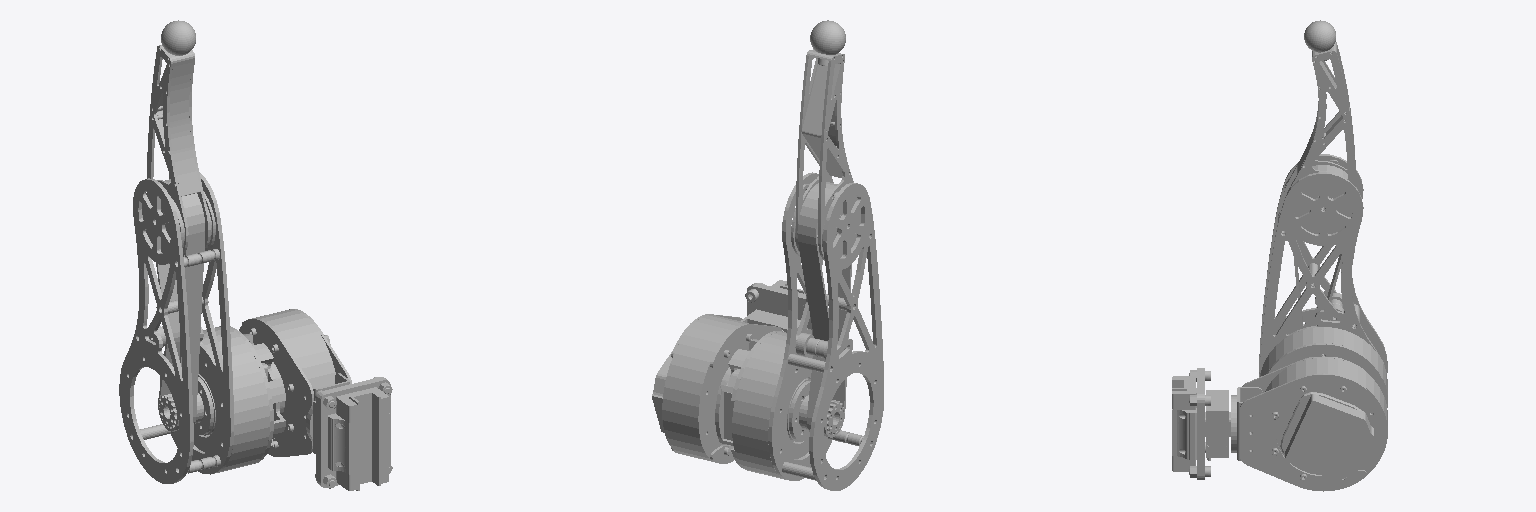
robot.urdf — URDF_LEG_001_000_000:
<?xml version="1.0" encoding="utf-8"?>
<!-- This URDF was automatically created by SolidWorks to URDF Exporter! Originally created by [author] ([email redacted]) 
     Commit Version: 1.6.0-4-g7f85cfe  Build Version: 1.6.7995.38578
     For more information, please see http://wiki.ros.org/sw_urdf_exporter -->
<robot
  name="URDF_LEG_001_000_000">
  
  <link name="base_link">
  <inertial>
    <origin xyz="0.0 0.0 0.0" rpy="0 0.0 0"/>
    <mass value="0.0"/>
    <inertia ixx="0.0" ixy="0.0" ixz="0.0" iyy="0.0" iyz="0.0" izz="0.0"/>
  </inertial>
  </link>

  <link name="Link_rail_y">
  <inertial>
    <origin xyz="0.0 0.0 0.0" rpy="0 0.0 0"/>
    <mass value="0.0"/>
    <inertia ixx="0.0" ixy="0.0" ixz="0.0" iyy="0.0" iyz="0.0" izz="0.0"/>
  </inertial>
  </link>

  <link name="Link_foot">
  <inertial>
    <origin xyz="0.0 0.0 0.0" rpy="0 0.0 0"/>
    <mass value="0.0"/>
    <inertia ixx="0.0" ixy="0.0" ixz="0.0" iyy="0.0" iyz="0.0" izz="0.0"/>
  </inertial>
  </link>

  <link
    name="link_rail_x">
    <inertial>
      <origin
        xyz="-8.6308E-05 0.00018678 -0.0003901"
        rpy="0 0 0" />
      <mass
        value="0.37766" />
      <inertia
        ixx="0.00011183"
        ixy="-2.8019E-07"
        ixz="-7.2687E-08"
        iyy="6.5676E-05"
        iyz="-6.3886E-08"
        izz="0.00016094" />
    </inertial>
    <visual>
      <origin
        xyz="0 0 0"
        rpy="0 0 0" />
      <geometry>
        <mesh
          filename="../meshes/base_link.obj" />
      </geometry>
      <material
        name="">
        <color
          rgba="0.75294 0.75294 0.75294 1" />
      </material>
    </visual>
    <!-- <collision>
      <origin
        xyz="0 0 0"
        rpy="0 0 0" />
      <geometry>
        <mesh
          filename="../meshes/base_link.obj" />
      </geometry>
    </collision> -->
  </link>

  <link
    name="Link_Hip_Roll">
    <inertial>
      <origin
        xyz="0.0031858 -0.00028131 -0.066103"
        rpy="0 0 0" />
      <mass
        value="0.57342" />
      <inertia
        ixx="0.00062163"
        ixy="2.9372E-06"
        ixz="7.0911E-06"
        iyy="0.00036727"
        iyz="-6.1191E-07"
        izz="0.0003807" />
    </inertial>
    <visual>
      <origin
        xyz="0 0 0"
        rpy="0 0 0" />
      <geometry>
        <mesh
          filename="../meshes/Link_Hip_Roll.obj" />
      </geometry>
      <material
        name="">
        <color
          rgba="0.75294 0.75294 0.75294 1" />
      </material>
    </visual>
    <!-- <collision>
      <origin
        xyz="0 0 0"
        rpy="0 0 0" />
      <geometry>
        <mesh
          filename="../meshes/Link_Hip_Roll.obj" />
      </geometry>
    </collision> -->
  </link>

  <joint
    name="Joint_Hip_Roll"
    type="fixed">
    <origin
      xyz="0 0.026 0"
      rpy="1.5708 0 0" />
    <parent
      link="link_rail_x" />
    <child
      link="Link_Hip_Roll" />
    <axis
      xyz="0 0 0" />
  </joint>

  <link
    name="Link_Hip_Pitch">
    <inertial>
      <origin
        xyz="-0.015486 -0.00028849 -0.044683"
        rpy="0 0 0" />
      <mass
        value="0.75736" />
      <inertia
        ixx="0.00046734"
        ixy="-4.1662E-06"
        ixz="5.7732E-11"
        iyy="0.00093176"
        iyz="-1.0064E-05"
        izz="0.0012629" />
    </inertial>
    <visual>
      <origin
        xyz="0 0 0"
        rpy="0 0 0" />
      <geometry>
        <mesh
          filename="../meshes/Link_Hip_Pitch.obj" />
      </geometry>
      <material
        name="">
        <color
          rgba="0.75294 0.75294 0.75294 1" />
      </material>
    </visual>
    <!-- <collision>
      <origin
        xyz="0 0 0"
        rpy="0 0 0" />
      <geometry>
        <mesh
          filename="../meshes/Link_Hip_Pitch.obj" />
      </geometry>
    </collision> -->
  </link>

  <joint
    name="Joint_Hip_Pitch"
    type="revolute">
    <origin
      xyz="-0.0146 0 -0.072"
      rpy="-1.5708 0 -1.5708" />
    <parent
      link="Link_Hip_Roll" />
    <child
      link="Link_Hip_Pitch" />
    <axis
      xyz="0 0 -1" />
    <limit
      effort="16"
      velocity="41" />
  </joint>

  <link
    name="Link_Knee_Pitch">
    <inertial>
      <origin
        xyz="-0.044768 -0.0009312 -1.74E-10"
        rpy="0 0 0" />
      <mass
        value="0.11794" />
      <inertia
        ixx="1.8687E-05"
        ixy="5.2157E-06"
        ixz="-1.6589E-11"
        iyy="8.2185E-05"
        iyz="4.0735E-12"
        izz="9.8349E-05" />
    </inertial>
    <visual>
      <origin
        xyz="0 0 0"
        rpy="0 0 0" />
      <geometry>
        <mesh
          filename="../meshes/Link_Knee_Pitch.obj" />
      </geometry>
      <material
        name="">
        <color
          rgba="0.75294 0.75294 0.75294 1" />
      </material>
    </visual>
    <!-- <collision>
      <origin
        xyz="0 0 0"
        rpy="0 0 0" />
      <geometry>
        <mesh
          filename="../meshes/Link_Knee_Pitch.obj" />
      </geometry>
    </collision> -->
  </link>

  <joint
    name="Joint_Knee_Pitch"
    type="revolute">
    <origin
      xyz="-0.15 0 -0.0742"
      rpy="0 0 0" />
    <parent
      link="Link_Hip_Pitch" />
    <child
      link="Link_Knee_Pitch" />
    <axis
      xyz="0 0 -1" />
    <limit
      effort="16"
      velocity="41" />
  </joint>

 <joint
    name="rail_y"
    type="prismatic">
    <origin
      xyz="0 0 0"
      rpy="0 0 0" />
    <parent
      link="base_link" />
    <child
      link="Link_rail_y" />
    <axis
      xyz="0 1 0" />
    <limit
      lower="-1.5"
      upper="1.5" />
  </joint>

 <joint
    name="rail_x"
    type="prismatic">
    <origin
      xyz="0 0 0"
      rpy="0 0 0" />
    <parent
      link="Link_rail_y" />
    <child
      link="link_rail_x" />
    <axis
      xyz="1 0 0" />
    <limit
      lower="-1.5"
      upper="1.5" />
  </joint>

  <joint name="Knee_foot" type="fixed">
    <parent link="Link_Knee_Pitch" />
    <child link="Link_foot" />
    <origin xyz="-0.15 0.0 0.0" rpy="0.0 0.0 0.0"/>
  </joint>

  <!-- Add 4 transmission: knee, hip, x and y stabilizing rails -->

  <transmission type="SimpleTransmission" name="Knee_Torque">
    <actuator name="knee" />
    <joint name="Joint_Knee_Pitch" />
  </transmission>

  <transmission type="SimpleTransmission" name="Hip_Torque">
    <actuator name="hip" />
    <joint name="Joint_Hip_Pitch" />
  </transmission>

  <transmission type="SimpleTransmission" name="rail_y_trans">
    <actuator name="hip_y" />
    <joint name="rail_y" />
  </transmission>

  <transmission type="SimpleTransmission" name="rail_x_trans">
    <actuator name="hip_x" />
    <joint name="rail_x" />
  </transmission>

</robot>

--- Render facts (derived) ---
3 views of the same robot in one strip: view 1: azimuth 30°, elevation 25°; view 2: azimuth 150°, elevation 25°; view 3: azimuth 270°, elevation 25° (orthographic).
Robot: URDF_LEG_001_000_000 — 7 links, 6 joints (2 revolute, 2 prismatic, 2 fixed); root link base_link; default pose: all joints at 0.
Visible links, largest first — view 1: Link_Hip_Pitch, Link_Knee_Pitch, link_rail_x, Link_Hip_Roll; view 2: Link_Hip_Pitch, Link_Hip_Roll, Link_Knee_Pitch, link_rail_x; view 3: Link_Hip_Roll, Link_Hip_Pitch, Link_Knee_Pitch, link_rail_x.
Boxes of the visible links, x1,y1,x2,y2 form: Link_Hip_Pitch: (119,172,285,483); Link_Knee_Pitch: (142,20,215,255); link_rail_x: (313,377,392,490); Link_Hip_Roll: (239,309,351,456); Link_Hip_Pitch: (715,172,883,490); Link_Hip_Roll: (652,314,783,463); Link_Knee_Pitch: (791,20,860,260); link_rail_x: (745,280,812,334); Link_Hip_Roll: (1231,356,1387,491); Link_Hip_Pitch: (1259,154,1387,407); Link_Knee_Pitch: (1284,20,1355,233); link_rail_x: (1172,368,1230,479).
Bounding box of the posed robot: 0.1364 × 0.1674 × 0.3522 m (x, y, z).
4 mesh visuals loaded from 4 distinct referenced files (4 OBJ).